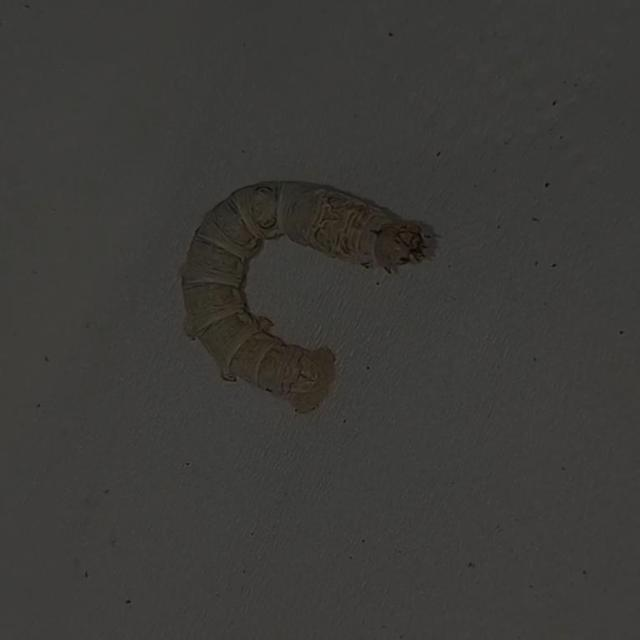Healthy: (167, 171, 436, 425)
